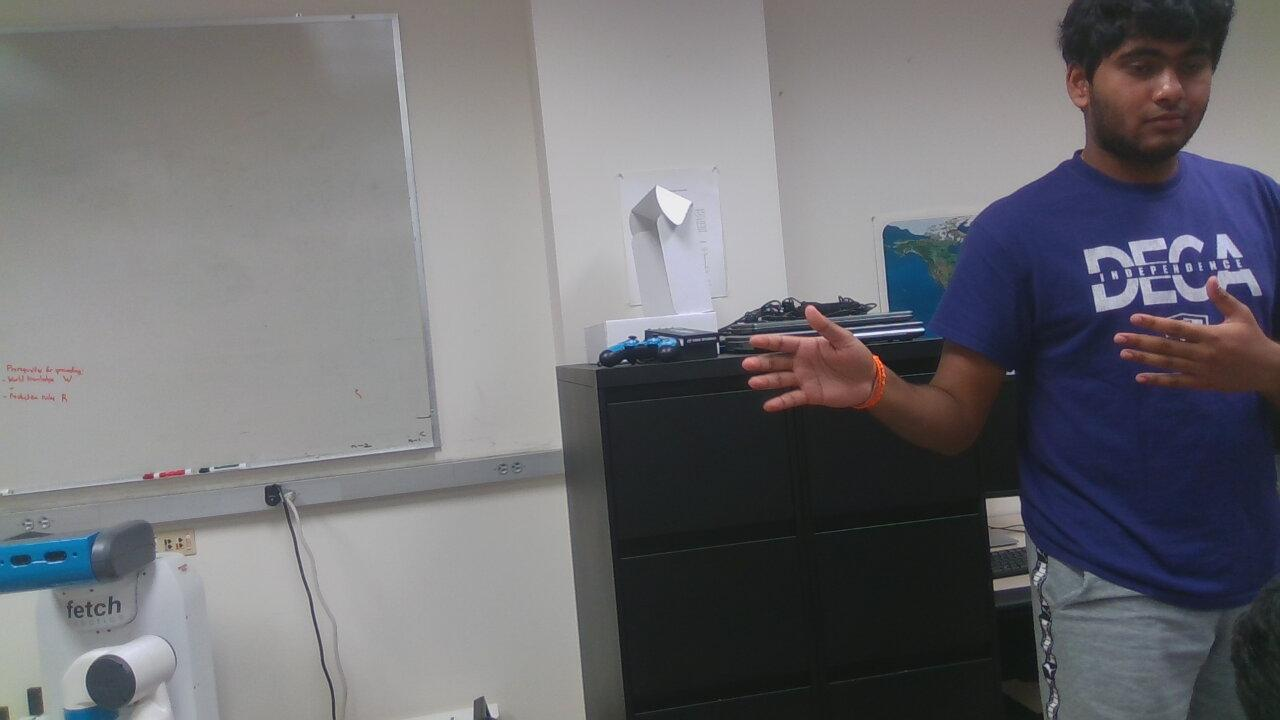hands: (1105, 271, 1280, 407), (733, 307, 894, 423)
